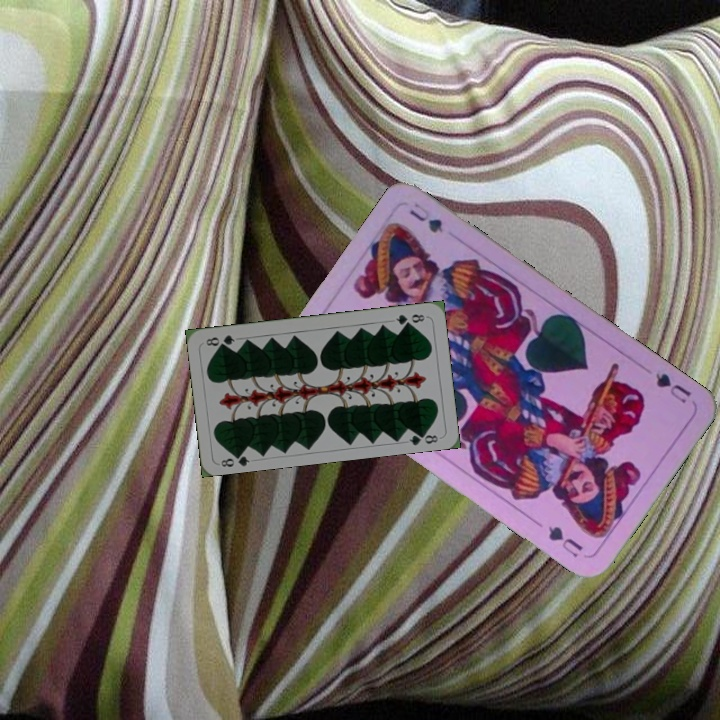G8: (217, 448, 252, 470), (392, 310, 427, 328)
GU: (651, 368, 694, 406)
